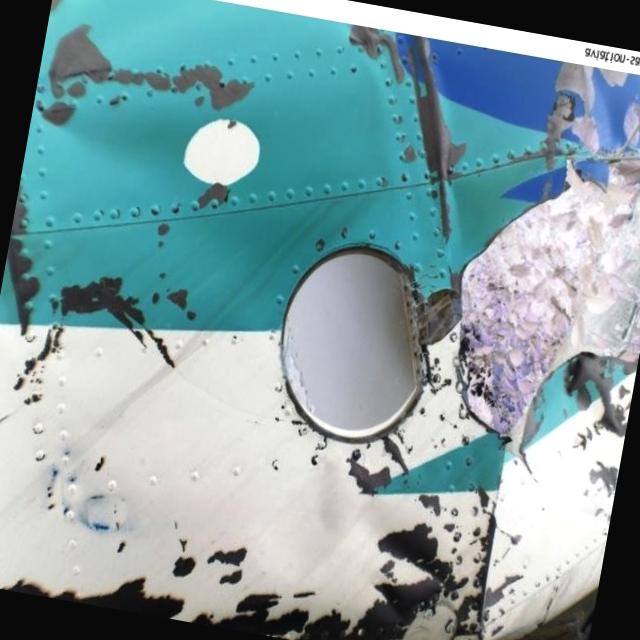dent: (458, 156, 640, 434), (439, 61, 640, 263), (325, 477, 553, 640)
